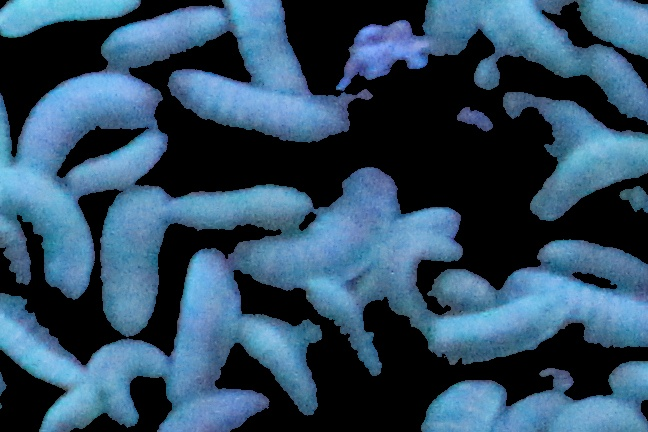larvae: (251, 167, 395, 289), (172, 71, 347, 142), (502, 264, 648, 347), (529, 126, 648, 227), (18, 74, 157, 159), (1, 164, 89, 298), (93, 186, 168, 334), (236, 311, 320, 414), (431, 295, 562, 359), (101, 3, 230, 66), (308, 278, 387, 377), (382, 226, 465, 316), (176, 179, 308, 235), (231, 1, 314, 90), (476, 1, 581, 71), (86, 340, 170, 421), (177, 256, 229, 382), (1, 306, 82, 385), (534, 231, 647, 282), (59, 134, 171, 185), (581, 42, 648, 125), (1, 1, 152, 36), (157, 390, 273, 432), (33, 381, 117, 430), (574, 1, 648, 52), (1, 208, 48, 284), (393, 203, 473, 244)
